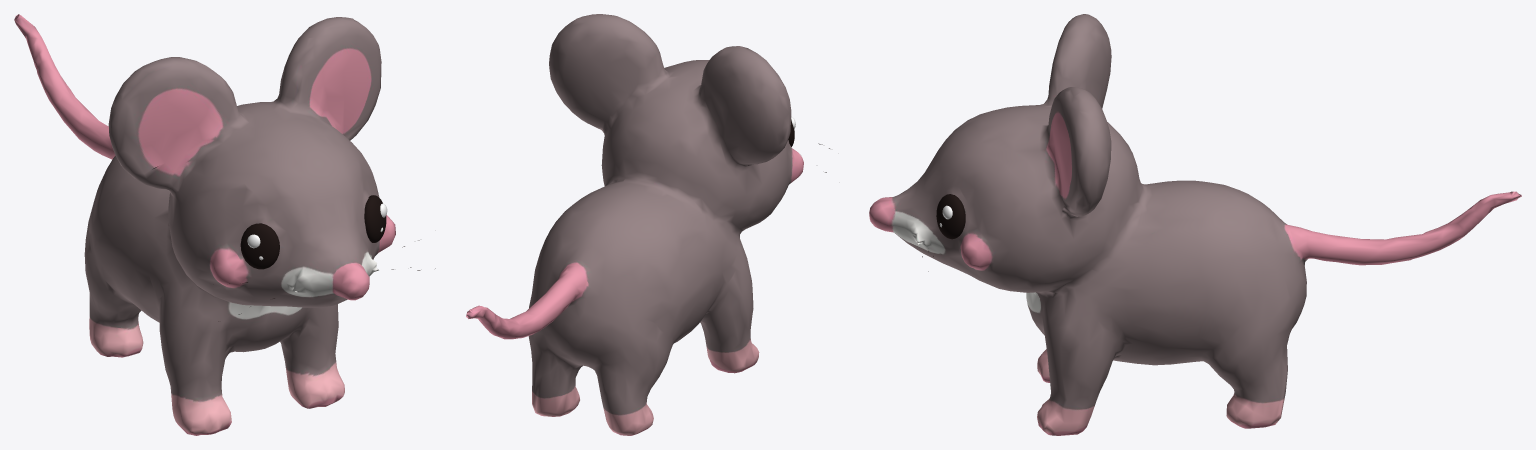
Rendered from rat.glb.
3 views of the same model, side by side, from view 1: azimuth 30°, elevation 25°; view 2: azimuth 150°, elevation 25°; view 3: azimuth 270°, elevation 25° (orthographic). The views are drawn at different scales.
Parts seen in each view (by area): view 1: Mesh_0.001; view 2: Mesh_0.001; view 3: Mesh_0.001.
Part boxes in pixels (x1=…): Mesh_0.001: x1=14, y1=14, x2=435, y2=435; Mesh_0.001: x1=466, y1=14, x2=829, y2=435; Mesh_0.001: x1=869, y1=14, x2=1521, y2=435.
Size of the model in its own units: 0.8481 by 1.11 by 1.89.
1 material, 1 textured.
